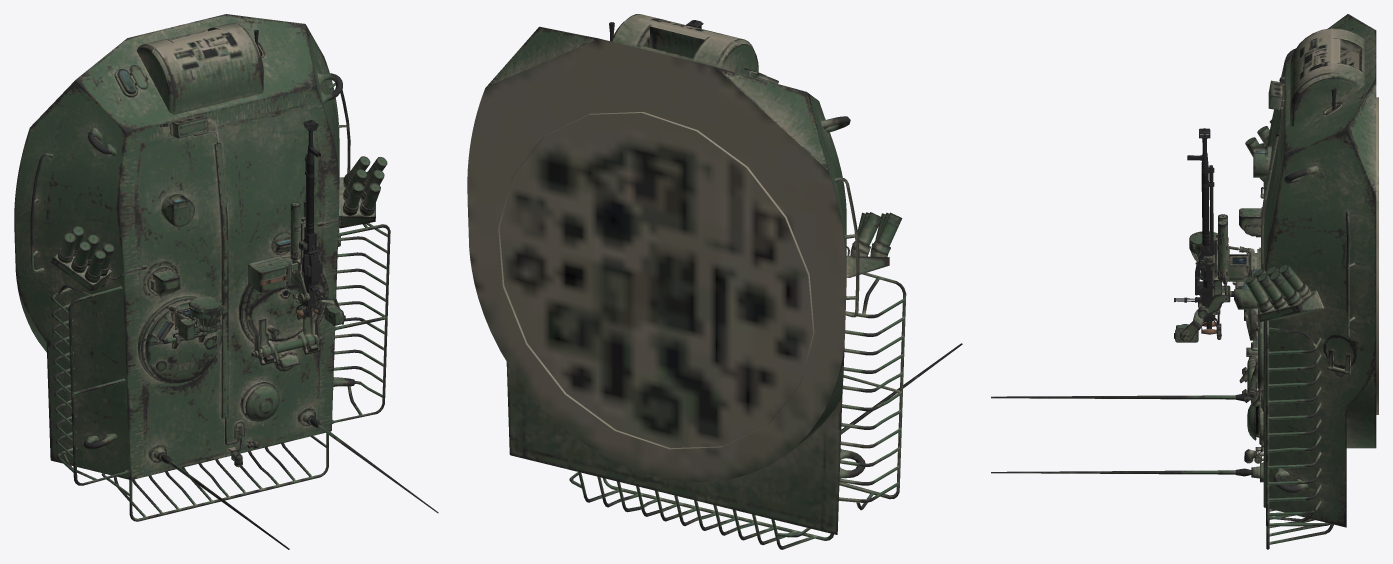
The model's file is Turret_02.glb.
3 renders of one model, left to right at view 1: azimuth 30°, elevation 25°; view 2: azimuth 150°, elevation 25°; view 3: azimuth 270°, elevation 25°, orthographic. The views are drawn at different scales.
Parts seen in each view (by area): view 1: set_0_group_0; view 2: set_0_group_0; view 3: set_0_group_0.
Boxes of the visible parts, x1,y1,x2,y2 form: set_0_group_0: (14,14,438,549); set_0_group_0: (467,14,962,549); set_0_group_0: (991,14,1378,549).
Bounding box in the file's own units: 2.75 × 3.55 × 2.75.
Materials: 1 (1 with a texture image).
